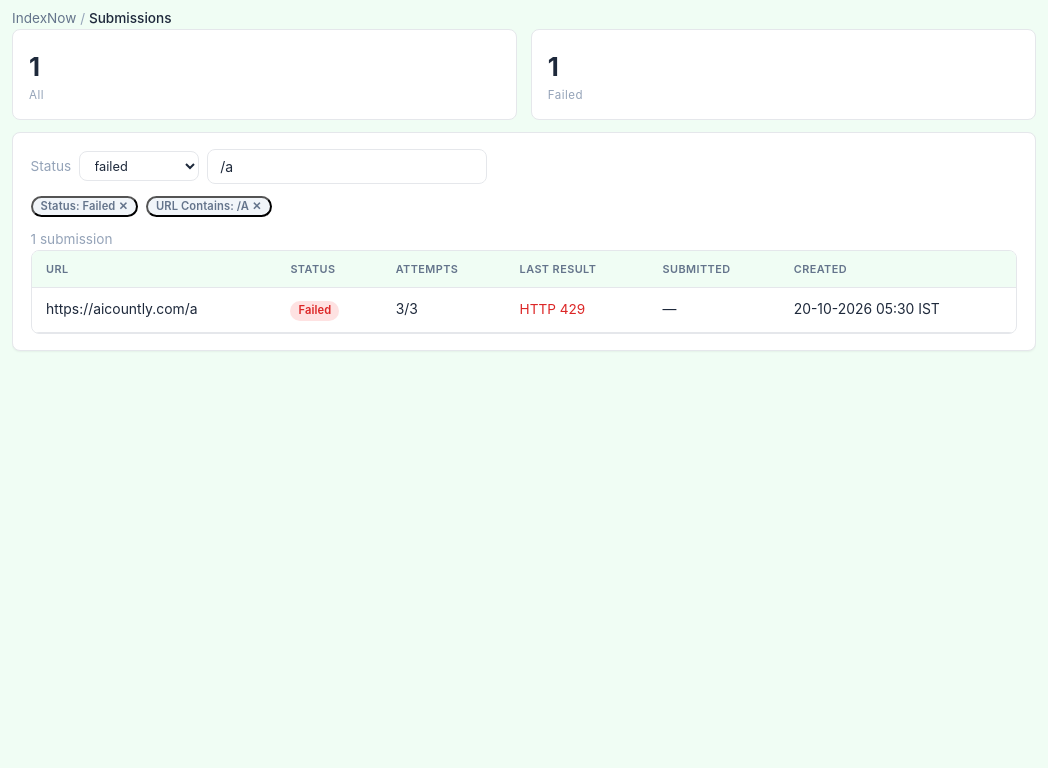
Test: IndexNow › the submissions list applies status + url and a row opens its attempts
Click the row named "Open submission https://aicountly.com/a" at (524, 310), box [32,288,1016,333]
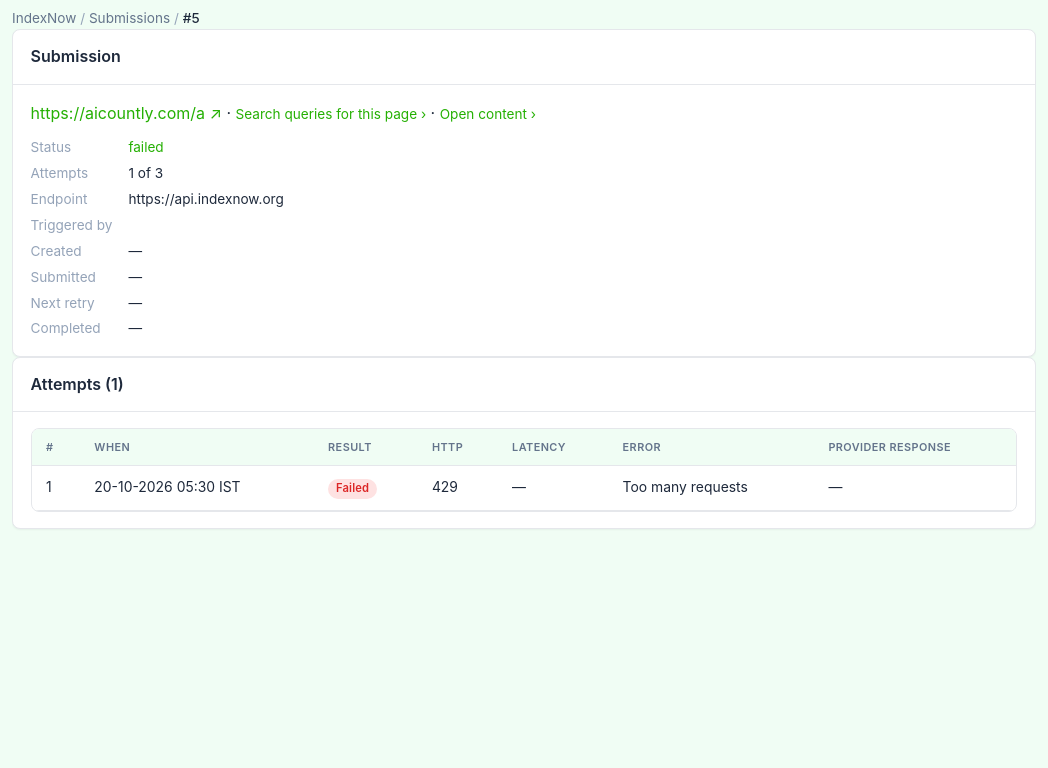
Check: the text "Too many requests" is shown, box [608,466,814,511]
